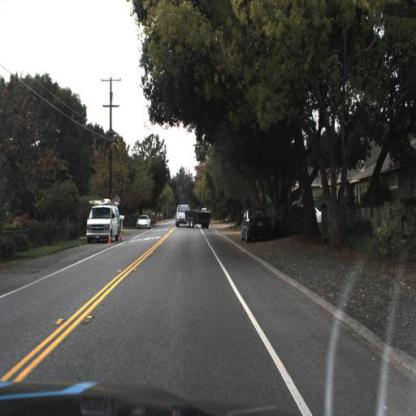car: (84, 194, 124, 254), (238, 206, 276, 247), (170, 201, 212, 229), (135, 213, 153, 231)
pedestrian: (112, 134, 120, 156)
